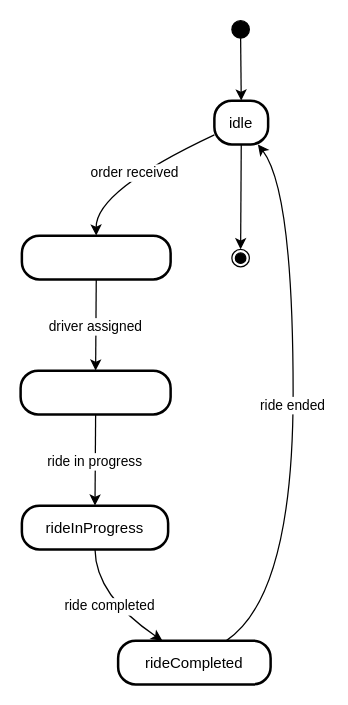
The diagram is 348 pixels wide and 705 high, and some of its shapes have lost their labels. Each missing label, with the box of its shape:
driverAssigned: (19, 369, 171, 415)
orderReceived: (20, 234, 171, 280)
